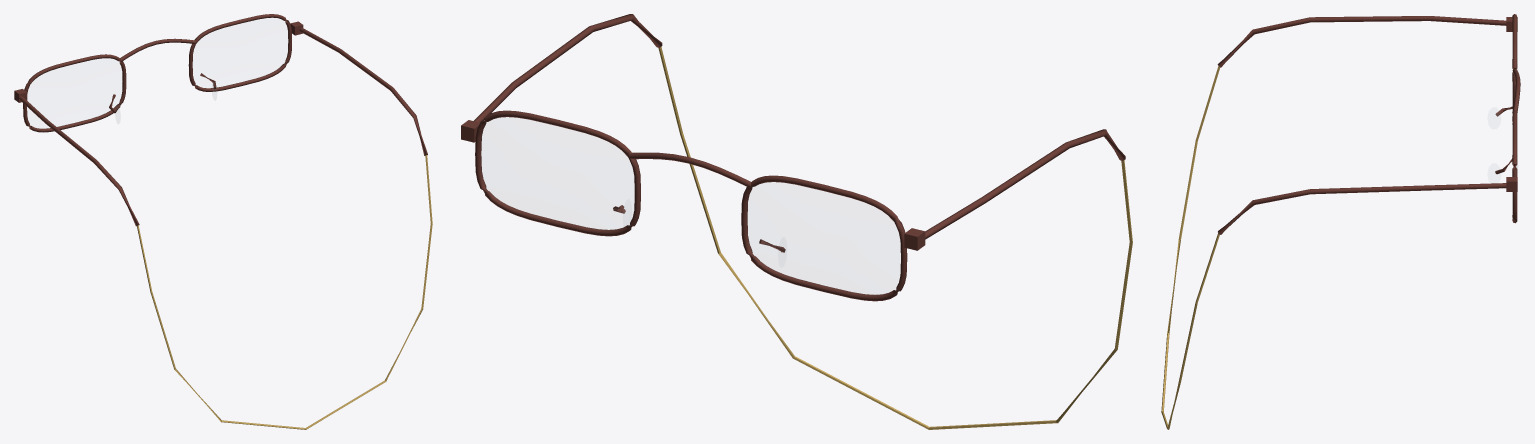
The model's file is glasses_xiuqin.glb.
3 renders of one model, left to right at view 1: azimuth 30°, elevation 25°; view 2: azimuth 150°, elevation 25°; view 3: azimuth 270°, elevation 25°, orthographic. The views are drawn at different scales.
Parts seen in each view (by area): view 1: glasses_frame, glasses_chain; view 2: glasses_frame, glasses_chain; view 3: glasses_frame, glasses_chain.
Boxes of the visible parts, bbox=[...] form: glasses_frame: bbox=[14, 14, 427, 226]; glasses_chain: bbox=[137, 155, 432, 429]; glasses_frame: bbox=[461, 14, 1125, 301]; glasses_chain: bbox=[658, 47, 1132, 429]; glasses_frame: bbox=[1217, 14, 1520, 234]; glasses_chain: bbox=[1161, 66, 1220, 429].
Bounding box in the file's own units: 0.145 × 0.1298 × 0.1265.
